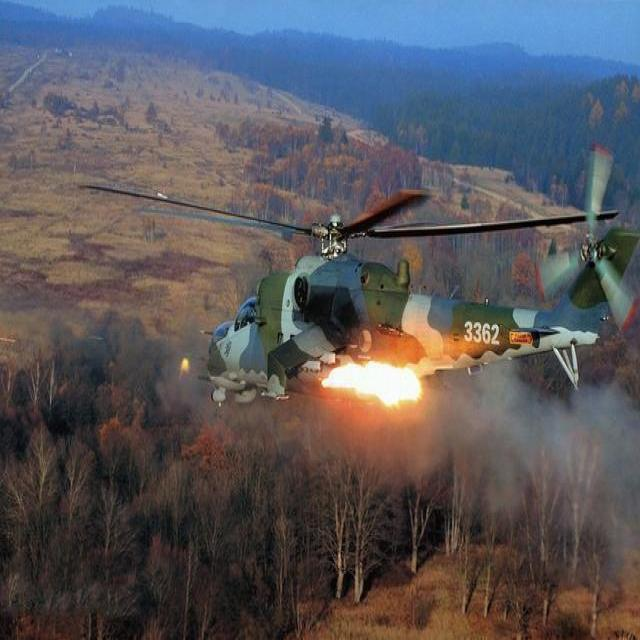MIL_HELO: (74, 155, 640, 403)
